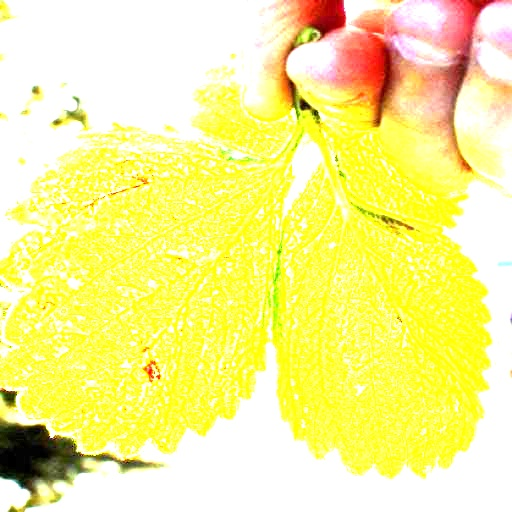Angular Leafspot: (0, 120, 298, 459), (273, 140, 498, 484), (320, 113, 474, 231), (187, 48, 322, 156)
